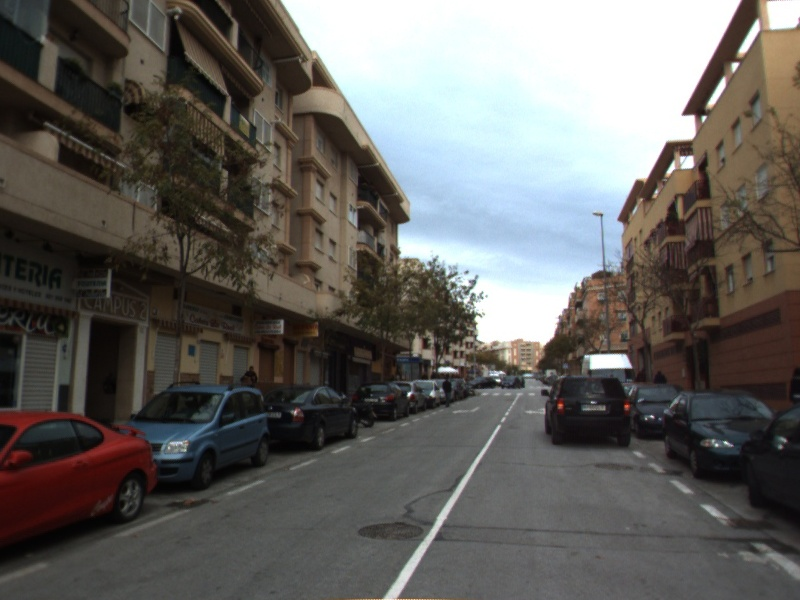STRAIGHT_LEFT: (522, 405, 547, 416)
